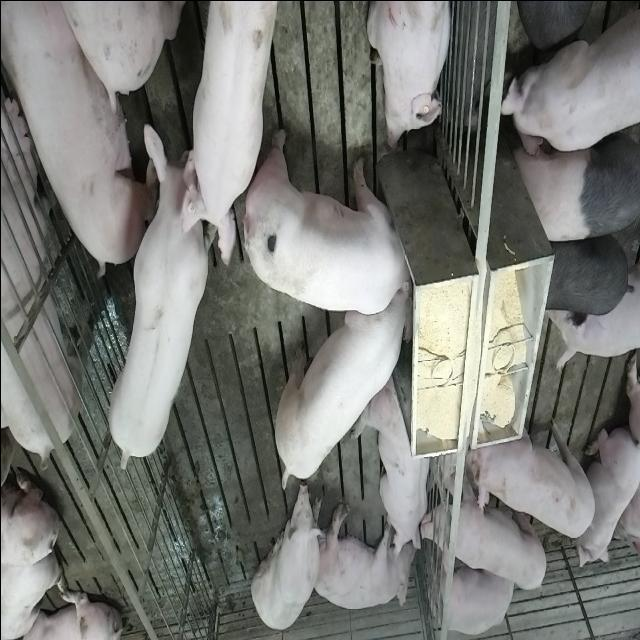Feeding: (248, 126, 420, 315), (270, 284, 410, 498)
Lateral_lying: (309, 502, 416, 611)
Sitting: (250, 480, 324, 634)
Standing: (106, 125, 222, 469), (0, 82, 96, 464), (177, 0, 281, 265), (499, 0, 638, 159), (468, 414, 598, 540), (510, 121, 638, 244), (421, 477, 548, 593), (535, 228, 633, 318)
Sternal_lying: (356, 372, 432, 554), (365, 0, 453, 150), (578, 418, 638, 568)
